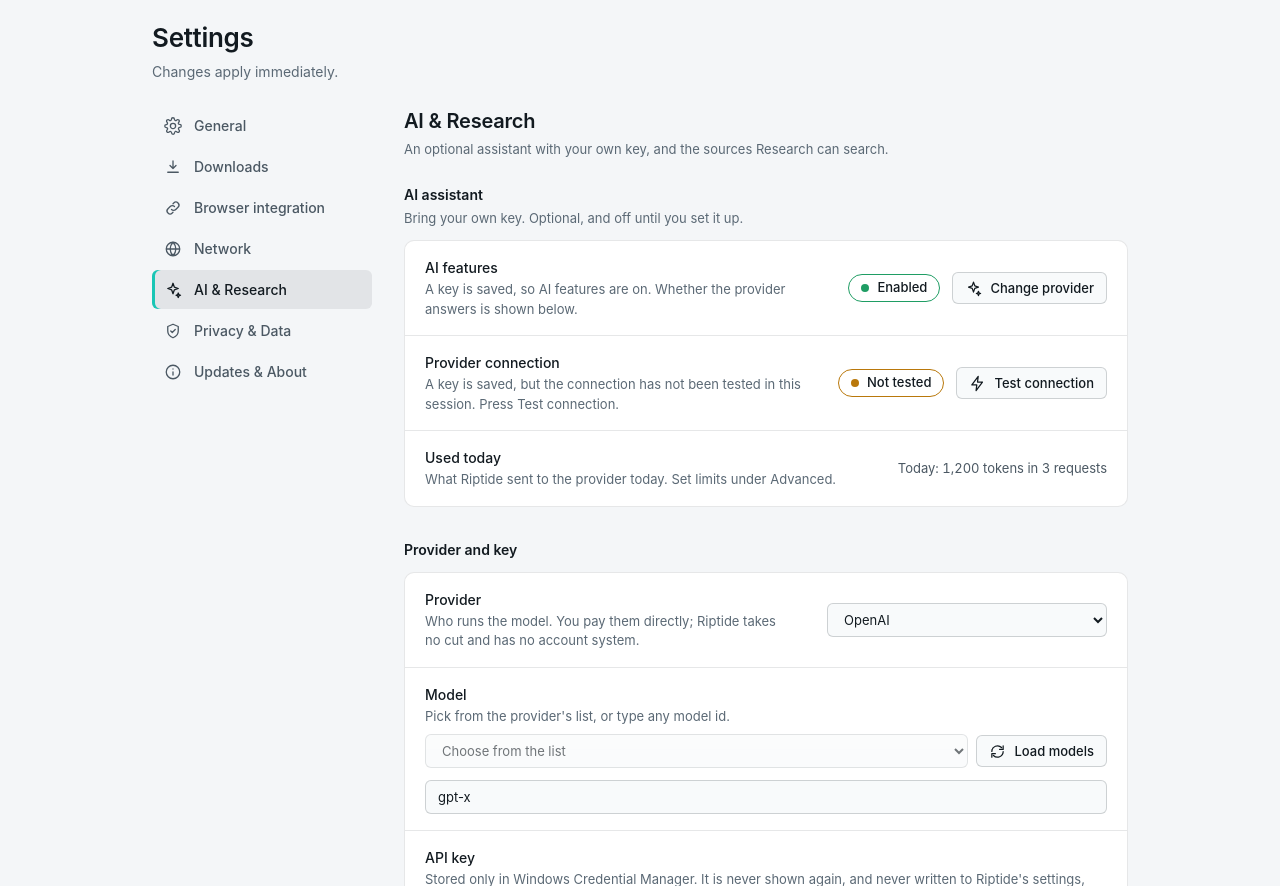
Test: SettingsPageComponent AI status › forgets the test result when the key is removed
Click the button "Test connection" at (1032, 383), box [956,367,1107,399]
(page scrolled)
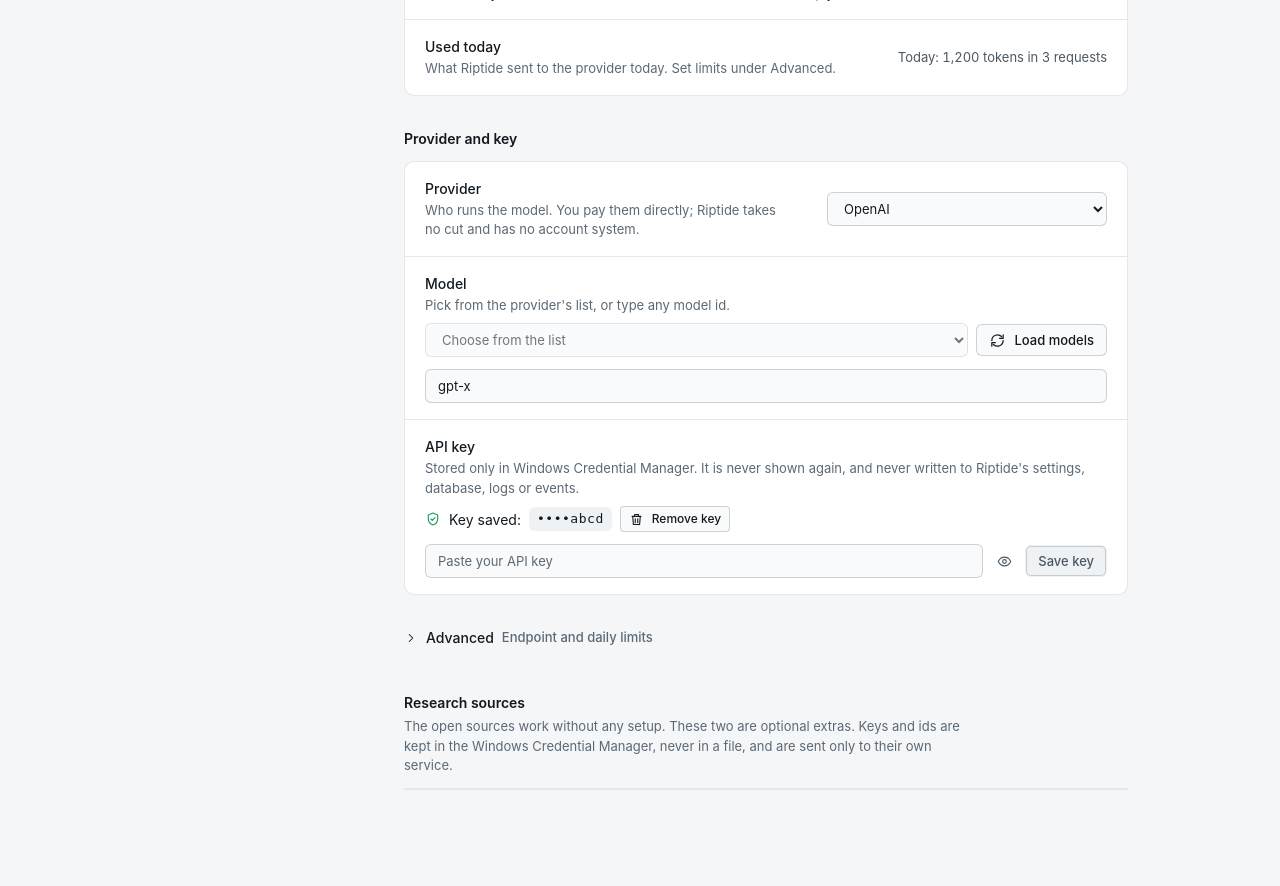
Click the button "Remove key" at (675, 519), box [620,506,730,532]
(page scrolled)
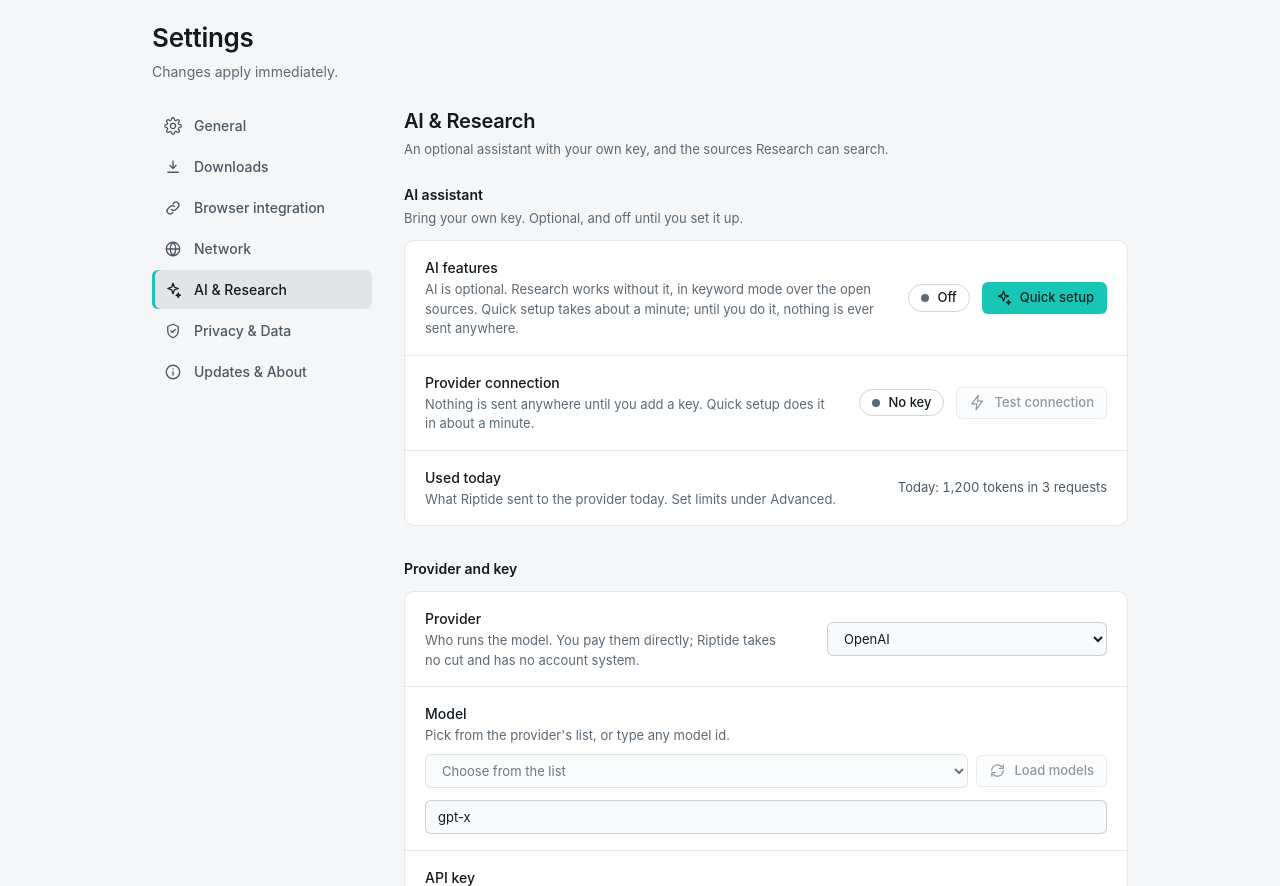
Result: the message with test id "ai-enabled" reads "Off" at [937,289,957,305]
Result: the message with test id "ai-provider" reads "No key" at [888,394,932,410]
